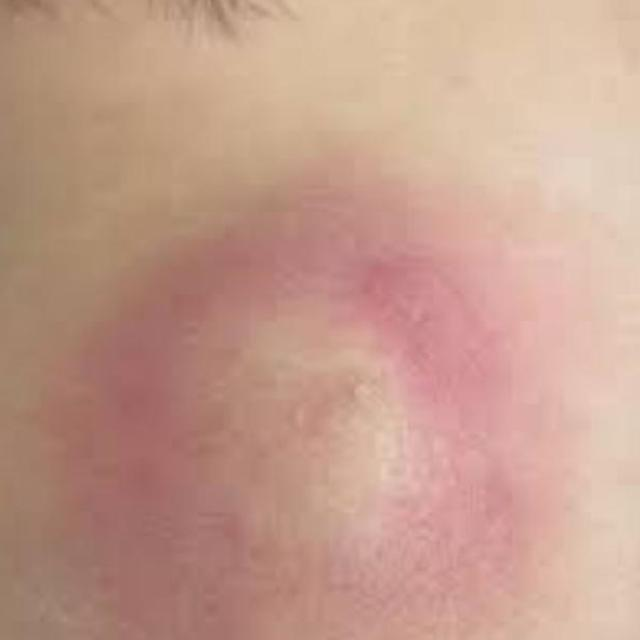nodule: (80, 227, 571, 631)
